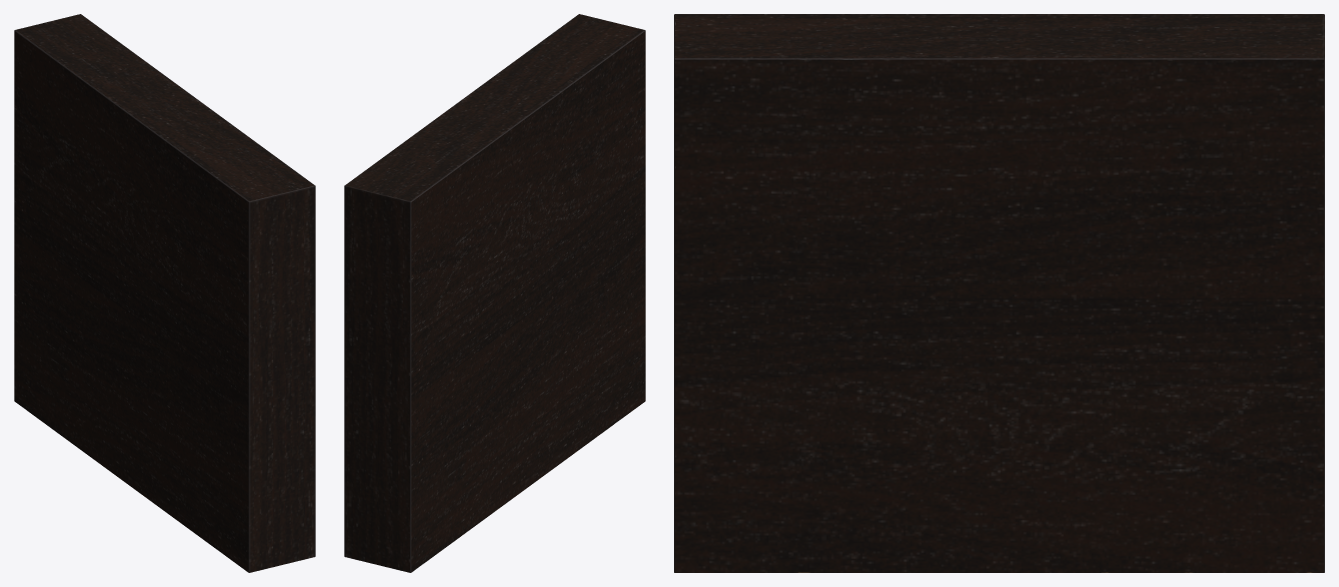
File: 08 - LACK Wall shelf - black-brown 30x26 cm.glb
3 views of the same model, side by side, from view 1: azimuth 30°, elevation 25°; view 2: azimuth 150°, elevation 25°; view 3: azimuth 270°, elevation 25° (orthographic). The views are drawn at different scales.
Visible parts, largest first — view 1: 40430588-LACK001; view 2: 40430588-LACK001; view 3: 40430588-LACK001.
Part boxes in pixels (left/top/right/bottom): 40430588-LACK001: left=14, top=14, right=315, bottom=572; 40430588-LACK001: left=344, top=14, right=645, bottom=572; 40430588-LACK001: left=674, top=14, right=1324, bottom=572.
Bounding box in the file's own units: 0.049 × 0.26 × 0.2983.
1 material, 1 textured.
